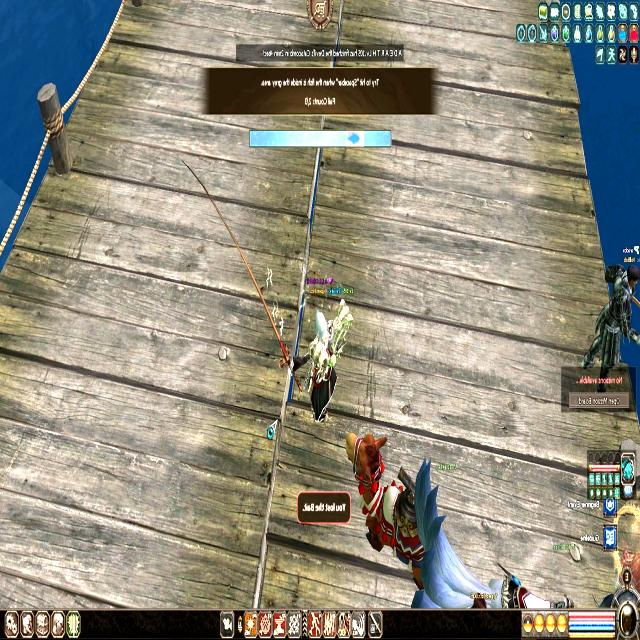fishes: (346, 131, 361, 146)
